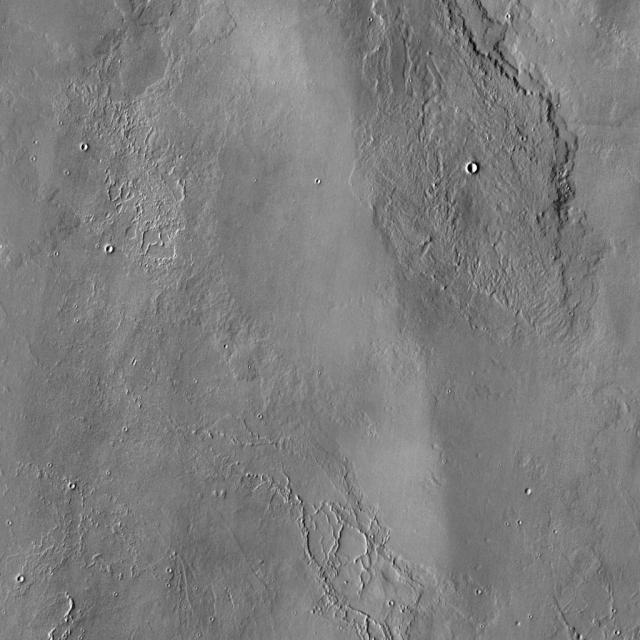crater: (472, 163, 481, 172), (77, 138, 85, 144), (16, 570, 22, 576)
